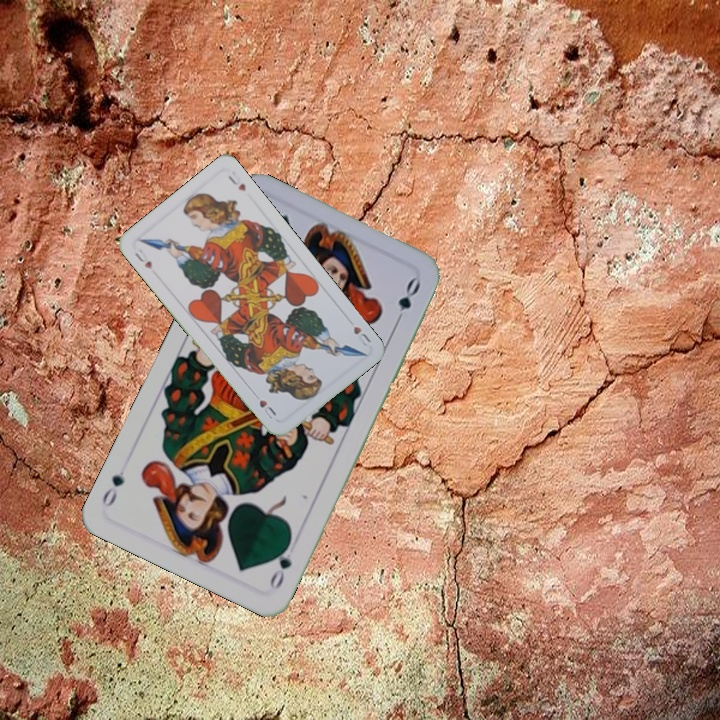GO: (265, 535, 294, 592)
HU: (349, 322, 374, 349), (131, 245, 155, 272)
